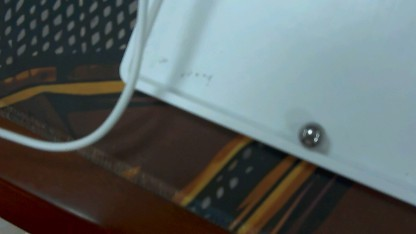ironball: (297, 121, 324, 150)
